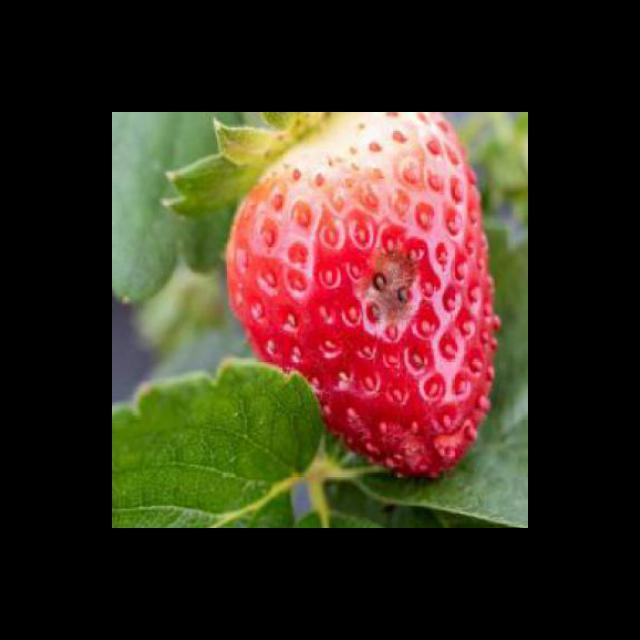Anthracnose Fruit Rot: (344, 225, 440, 340)
